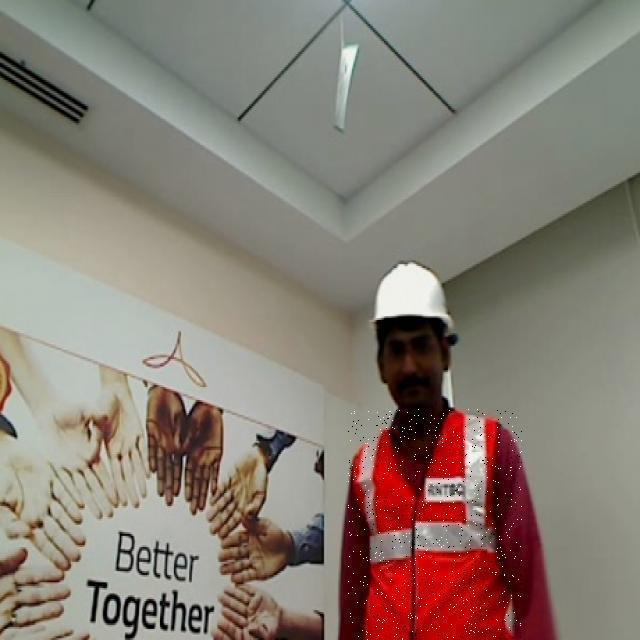helmet: (371, 255, 451, 361)
vest: (348, 409, 523, 640)
